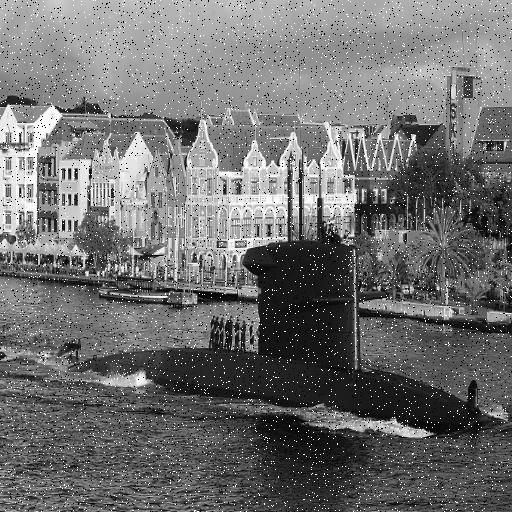submarine: (66, 148, 482, 432)
